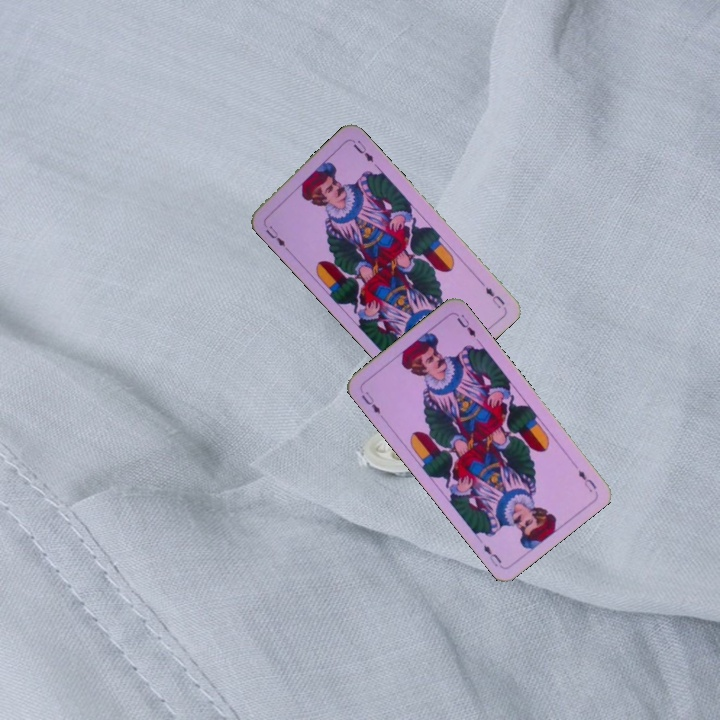EU: (476, 277, 507, 311), (261, 219, 291, 253), (357, 387, 383, 417), (574, 466, 599, 495)
